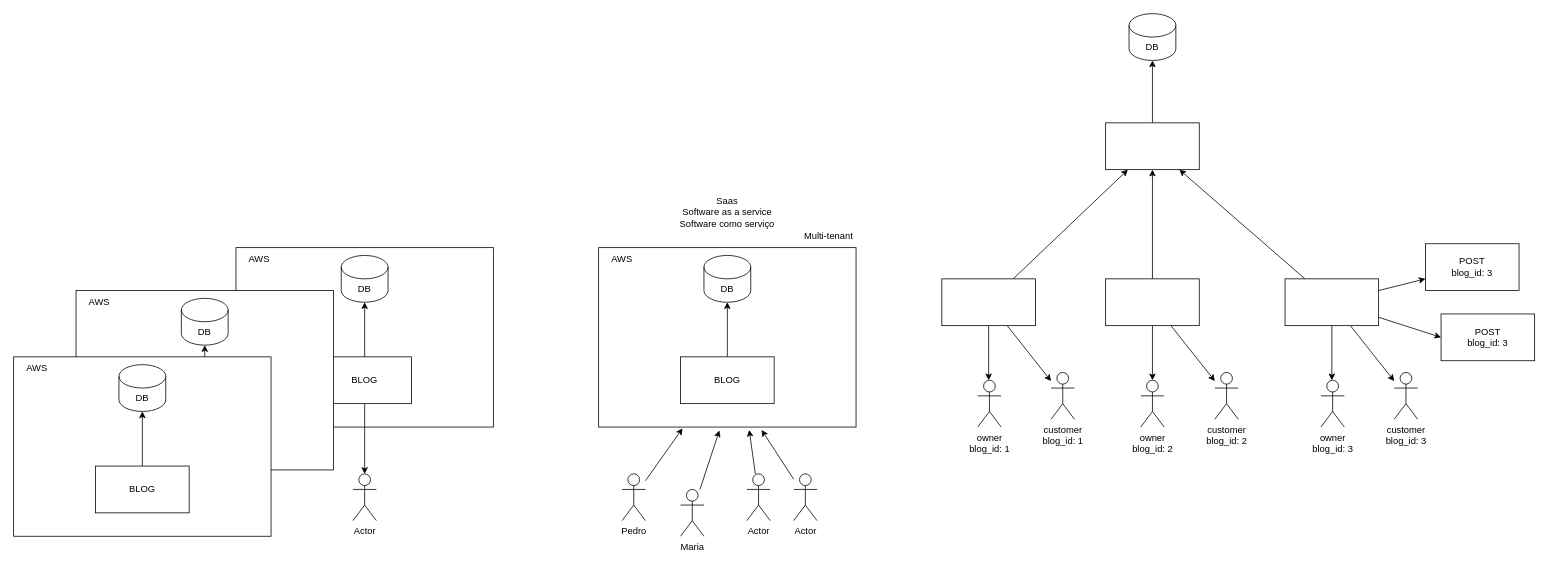
Some shapes in this 1548 by 566 pixel diagram are drawn without their labels. The centre of each missing label's shape, as x and y in pixels:
"BLOG id: 1" belongs at (988,302).
"BLOG id: 2" belongs at (1152,302).
"BLOG id: 3" belongs at (1331,302).
"SISTEMA" belongs at (1152,146).
